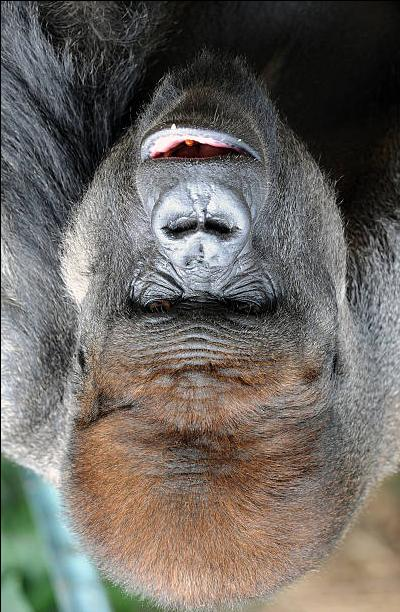gorille_Autres: (5, 0, 399, 612)
